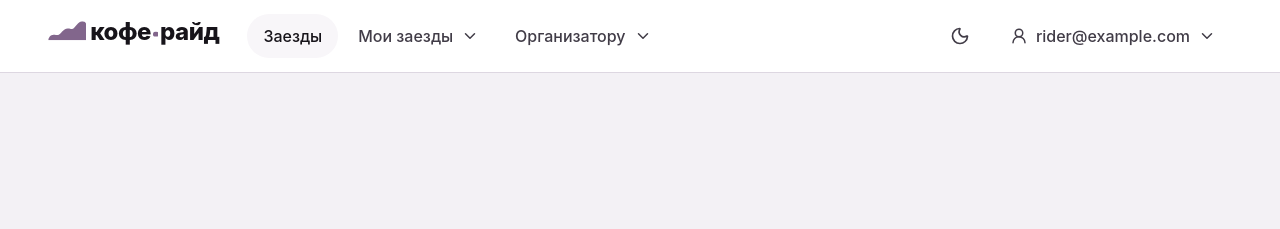
Scenario: AppHeader › renders every supplied participant nav item, in the order given, behind the participant menu
The width and height of the screenshot is (1280, 229).
Click the button "Мои заезды" at (419, 36), box [342,14,495,58]
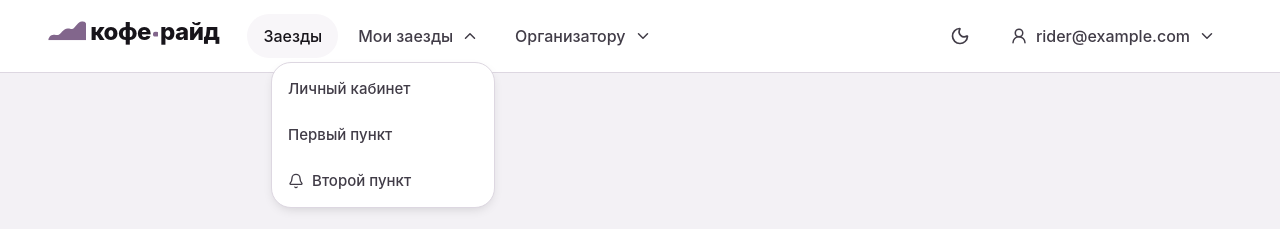
Expected: the menu item "Личный кабинет" is shown, [288,79,410,98]
Expected: the menu item "Первый пункт" is shown, [288,125,392,144]
Expected: the menu item "Второй пункт" is shown, [288,171,411,190]
